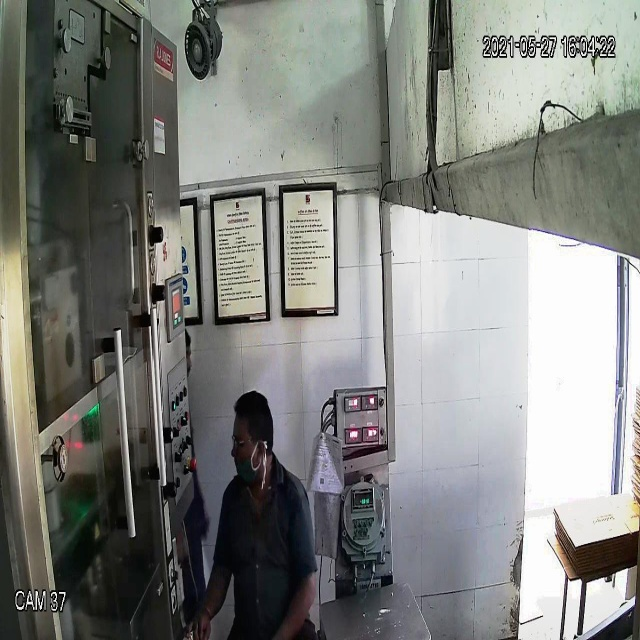Gafas: (226, 423, 262, 455)
